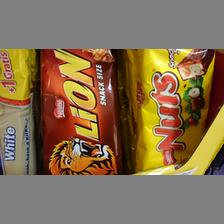Schokolade: (38, 48, 120, 176), (128, 49, 212, 169)
